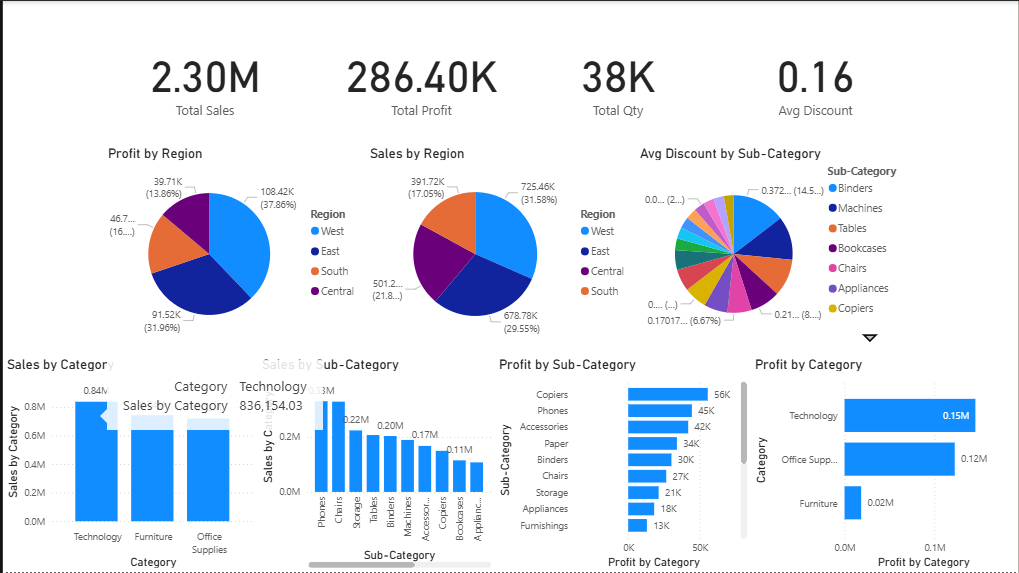

What the dashboard file says about the page in this screenshot:
{"tool":"powerbi","page":{"name":"MainPage","canvas":[1280,720],"ordinal":0},"visuals":[{"type":"card","fields":{"Values":["Dax_table.Total Sales"]},"box":[127.4,16.4,254.7,165.2],"z":0},{"type":"card","fields":{"Values":["Dax_table.Total Profit"]},"box":[390.9,17.7,273.7,163.9],"z":1000},{"type":"card","fields":{"Values":["Dax_table.Total Qty"]},"box":[664.6,17.7,222,163.9],"z":2000},{"type":"card","fields":{"Values":["Dax_table.Avg Discount"]},"box":[900.4,17.7,248.4,163.9],"z":3000},{"type":"pieChart","title":"Profit by Region","fields":{"Y":["Dax_table.Profit by Region"],"Category":["Orders_Clean.Region"]},"box":[127.4,181.6,330.4,256],"z":4000},{"type":"pieChart","title":"Sales by Region","fields":{"Y":["Dax_table.Sales by Region"],"Category":["Orders_Clean.Region"]},"box":[457.8,181.6,340.5,256],"z":5000},{"type":"barChart","title":"Profit by Category","fields":{"Y":["Dax_table.Profit by Category"],"Category":["Orders_Clean.Category"]},"box":[943.3,447.7,336.7,272.4],"z":6000},{"type":"barChart","title":"Profit  by Sub-Category","fields":{"Y":["Dax_table.Profit by Category"],"Category":["Orders_Clean.Sub-Category"]},"box":[620.5,447.7,322.8,272.4],"z":7000},{"type":"clusteredColumnChart","title":"Sales by Category","fields":{"Y":["Dax_table.Sales by Category"],"Category":["Orders_Clean.Category"]},"box":[0,447.7,321.6,272.4],"z":8000},{"type":"clusteredColumnChart","title":"Sales by Sub-Category","fields":{"Y":["Dax_table.Sales by Category"],"Category":["Orders_Clean.Sub-Category"]},"box":[321.6,447.7,298.9,272.4],"z":9000},{"type":"pieChart","fields":{"Y":["Dax_table.Avg Discount"],"Category":["Orders_Clean.Sub-Category"]},"box":[798.3,181.6,350.6,256],"z":10000}]}

Visuals, with their boxes in screenshot pixels (x1, y1, x2, y2), scaled from the page's 1280x720 canvas onto the 1019x573 screenshot:
card - Dax_table.Total Sales: select_region(101, 13, 304, 145)
card - Dax_table.Total Profit: select_region(311, 14, 529, 145)
card - Dax_table.Total Qty: select_region(529, 14, 706, 145)
card - Dax_table.Avg Discount: select_region(717, 14, 915, 145)
"Profit by Region" pieChart: select_region(101, 145, 364, 348)
"Sales by Region" pieChart: select_region(364, 145, 636, 348)
"Profit by Category" barChart: select_region(751, 356, 1018, 572)
"Profit  by Sub-Category" barChart: select_region(494, 356, 751, 572)
"Sales by Category" clusteredColumnChart: select_region(0, 356, 256, 572)
"Sales by Sub-Category" clusteredColumnChart: select_region(256, 356, 494, 572)
pieChart - Dax_table.Avg Discount x Orders_Clean.Sub-Category: select_region(636, 145, 915, 348)
